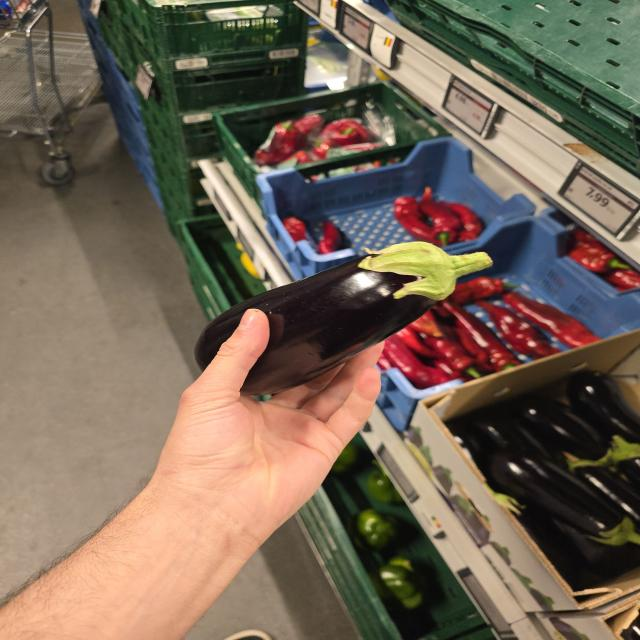Eggplant: (194, 241, 493, 396)
